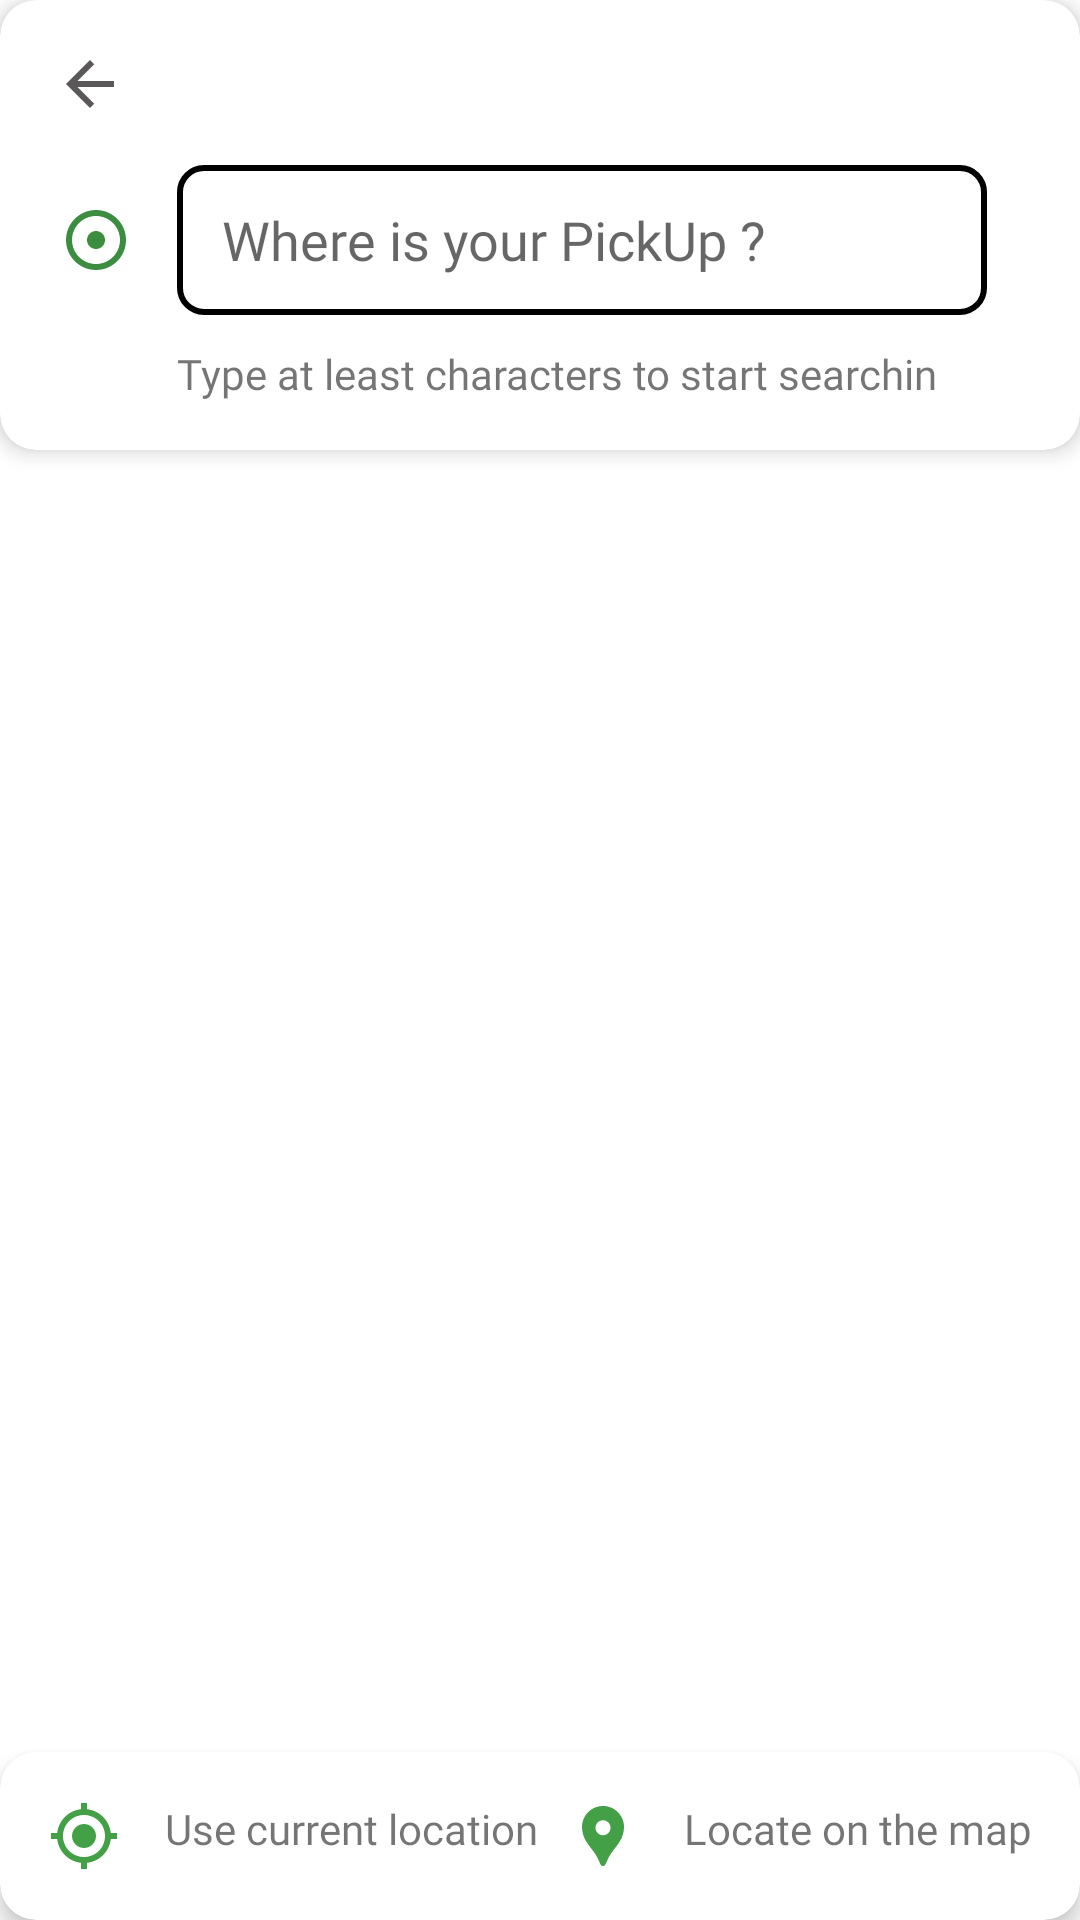

Icons on this 1080px x 1920px Android screen, each with the point to tap as point (x, y):
back: point (90, 84)
